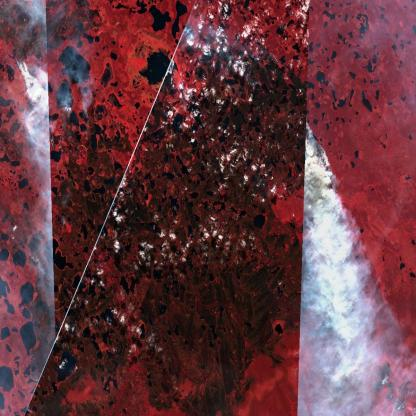fire: (296, 109, 340, 200), (11, 40, 40, 82)
